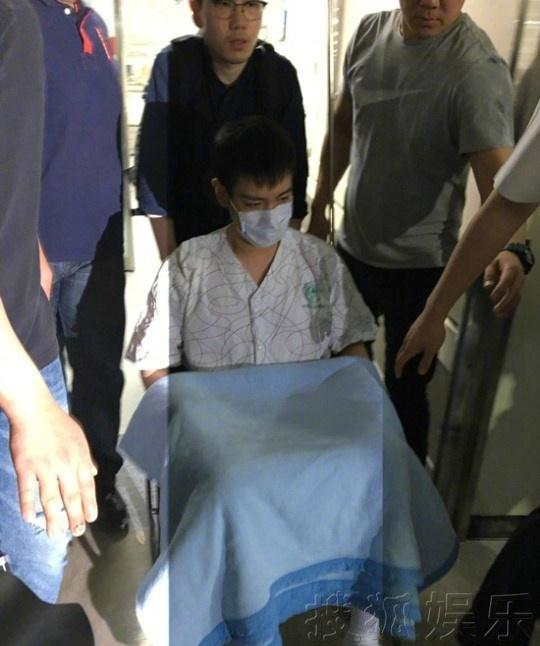NONE: (208, 1, 266, 61)
OK: (227, 182, 297, 252)
